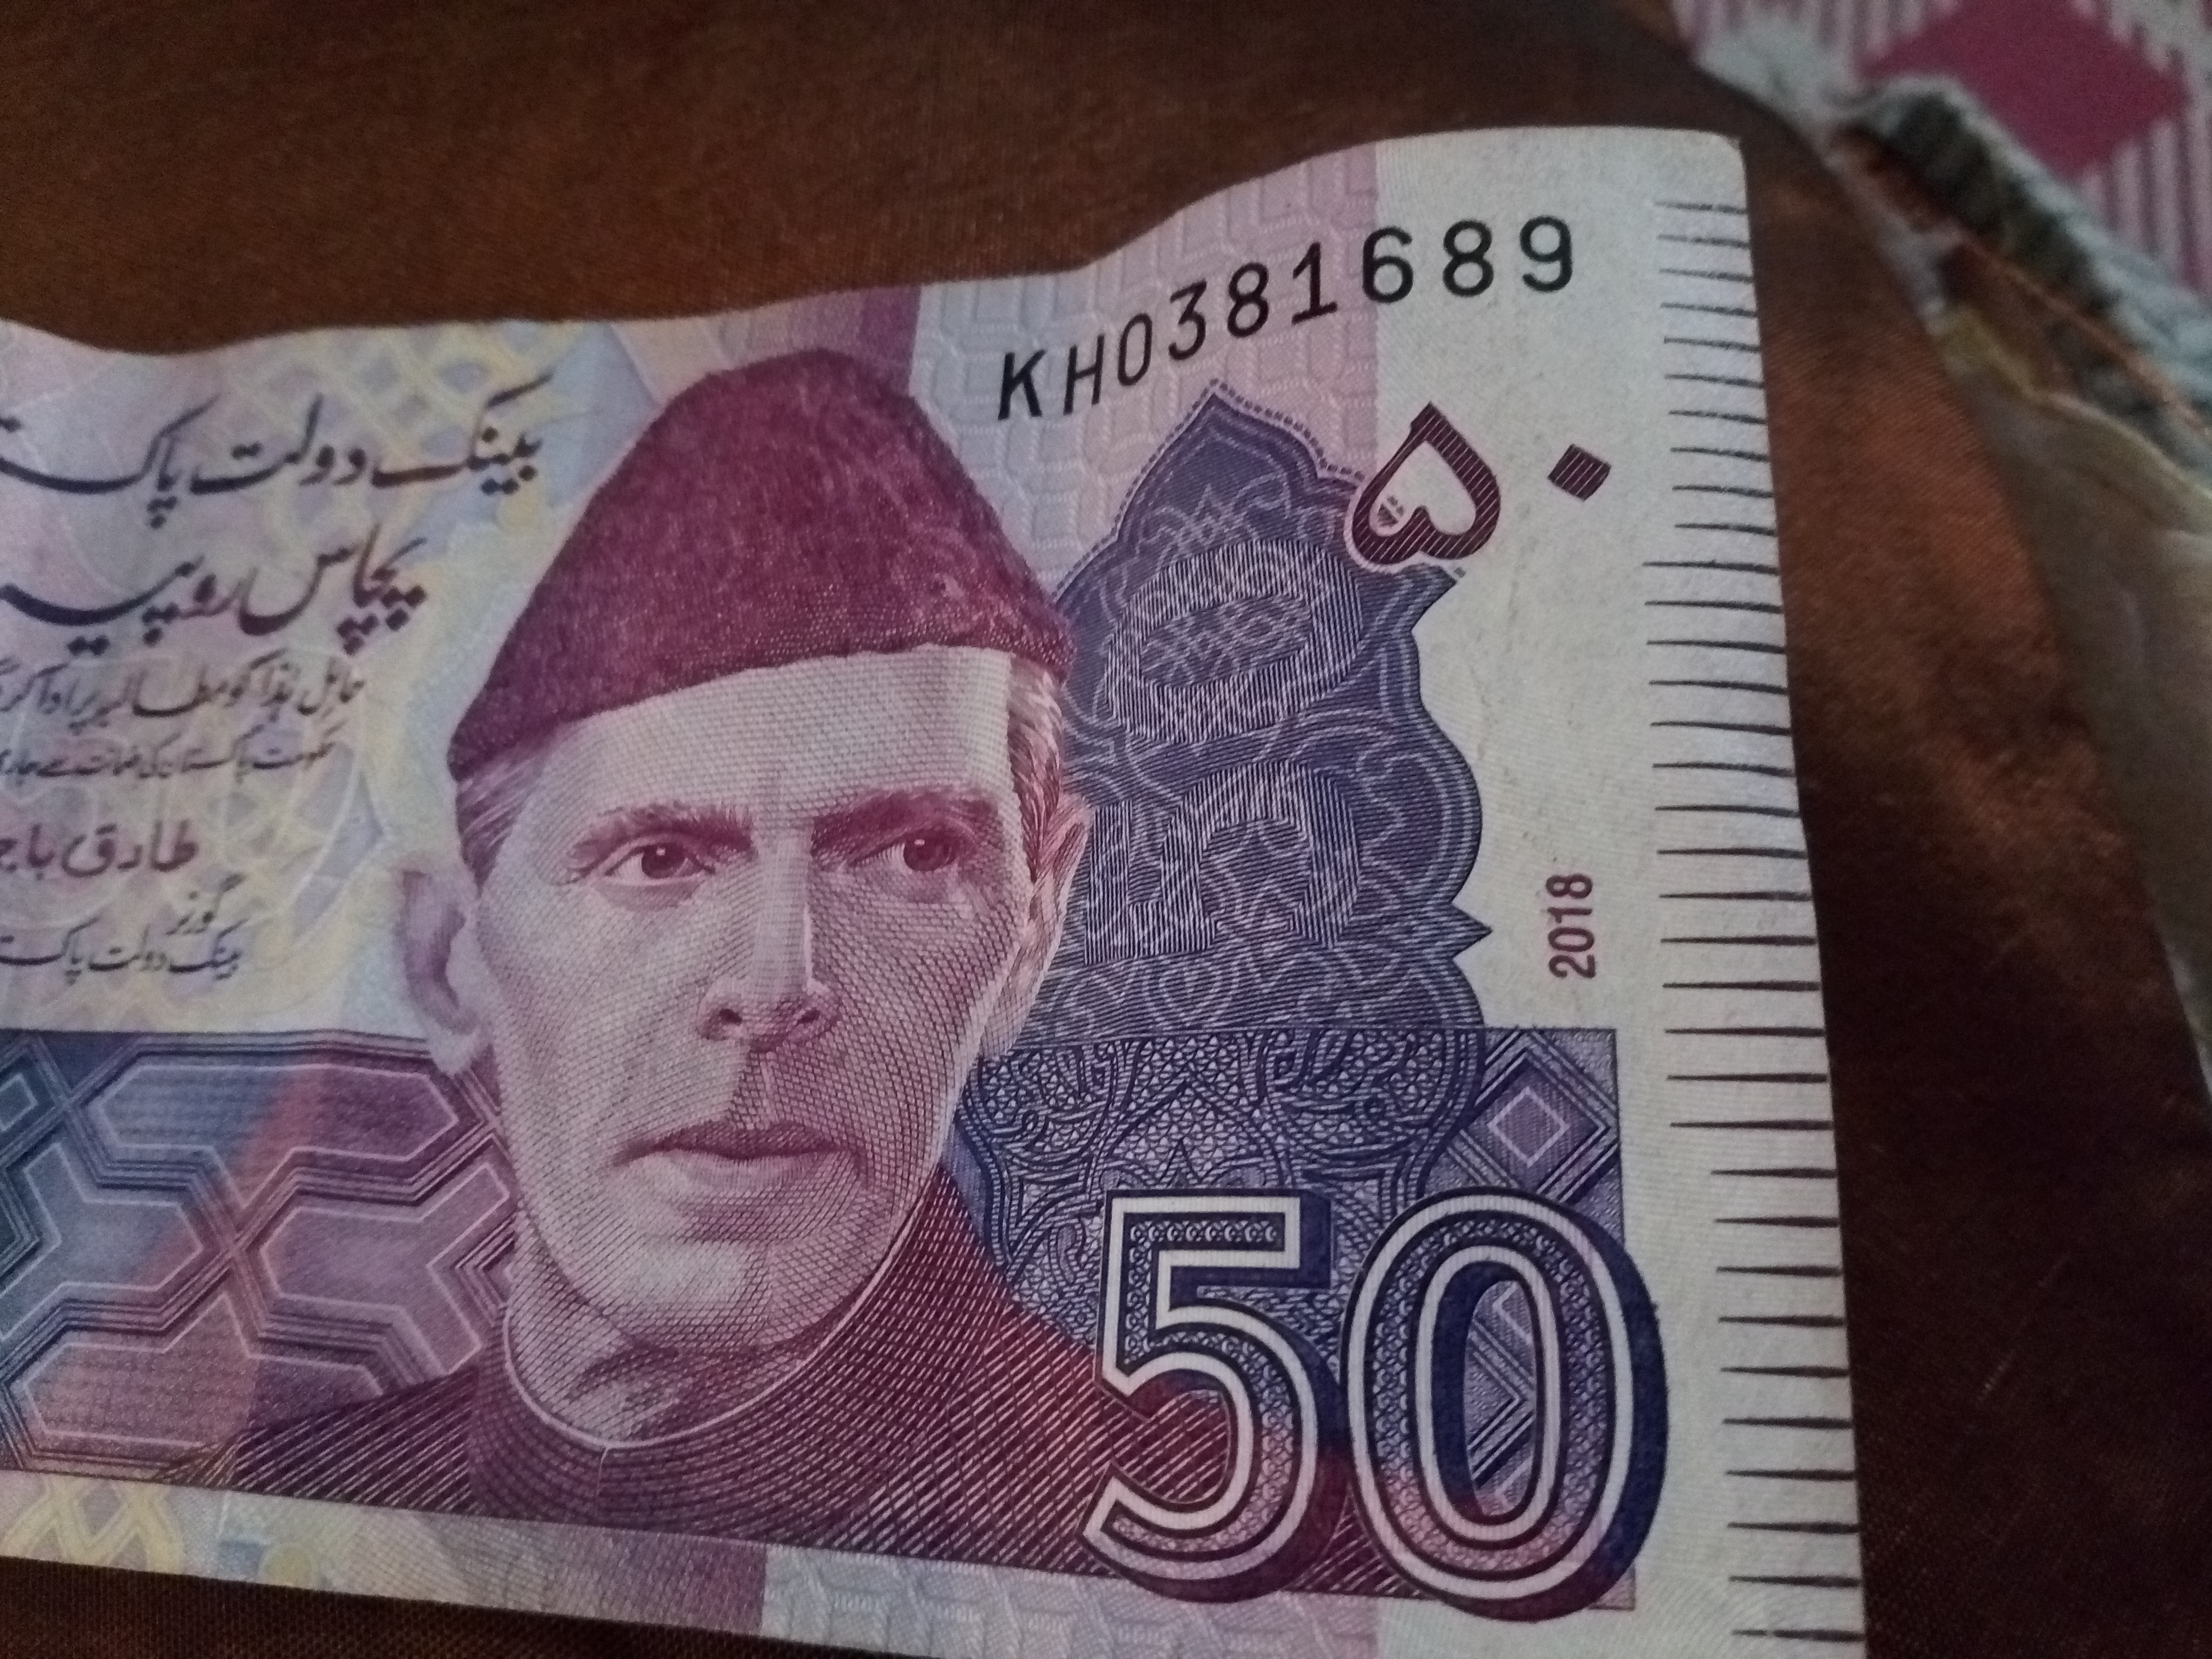50 rupee: (61, 110, 1942, 1656), (1017, 1166, 1742, 1624)
